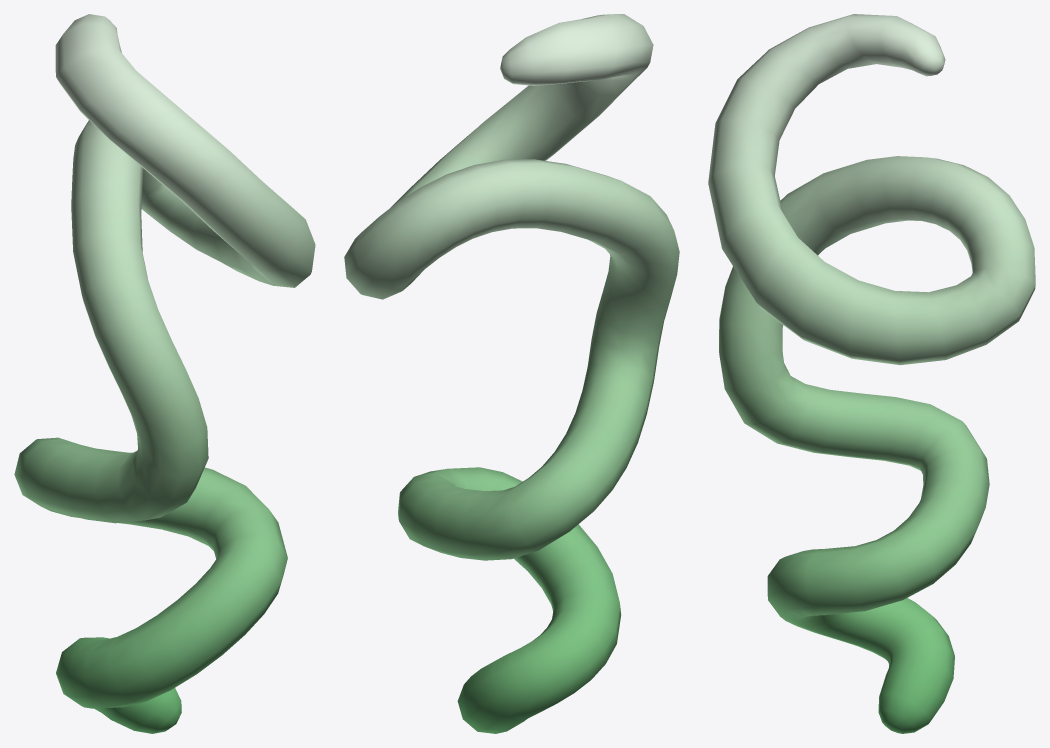
The model's file is Capsule_contents_002.fbx.
The picture shows the model from 3 angles, left to right: view 1: azimuth 30°, elevation 25°; view 2: azimuth 150°, elevation 25°; view 3: azimuth 270°, elevation 25°; orthographic projection. The views are drawn at different scales.
Visible parts, largest first — view 1: Сapsule_contents_002; view 2: Сapsule_contents_002; view 3: Сapsule_contents_002.
Boxes of the visible parts, x1,y1,x2,y2 form: Сapsule_contents_002: (14, 14, 315, 733); Сapsule_contents_002: (344, 14, 679, 733); Сapsule_contents_002: (708, 14, 1035, 733).
Bounding box in the file's own units: 42.87 × 54.06 × 124.
